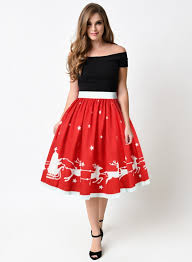C_skirt: (35, 88, 151, 207)
C_tank top: (69, 43, 130, 89)
